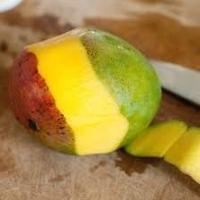biodegradable: (9, 26, 163, 156)
